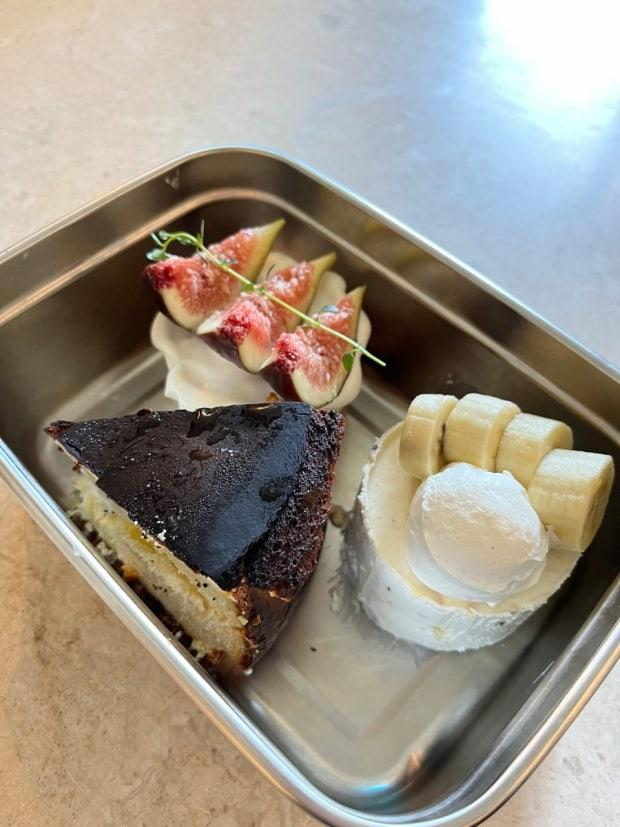Lunch Box: (0, 149, 619, 826)
